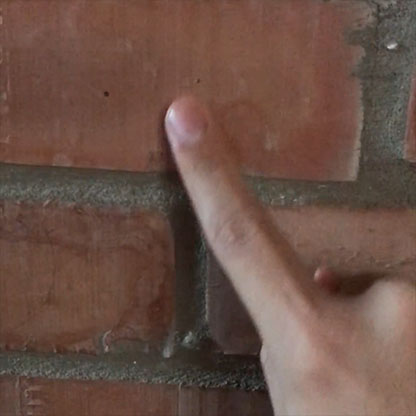fingertip: (153, 85, 224, 158)
